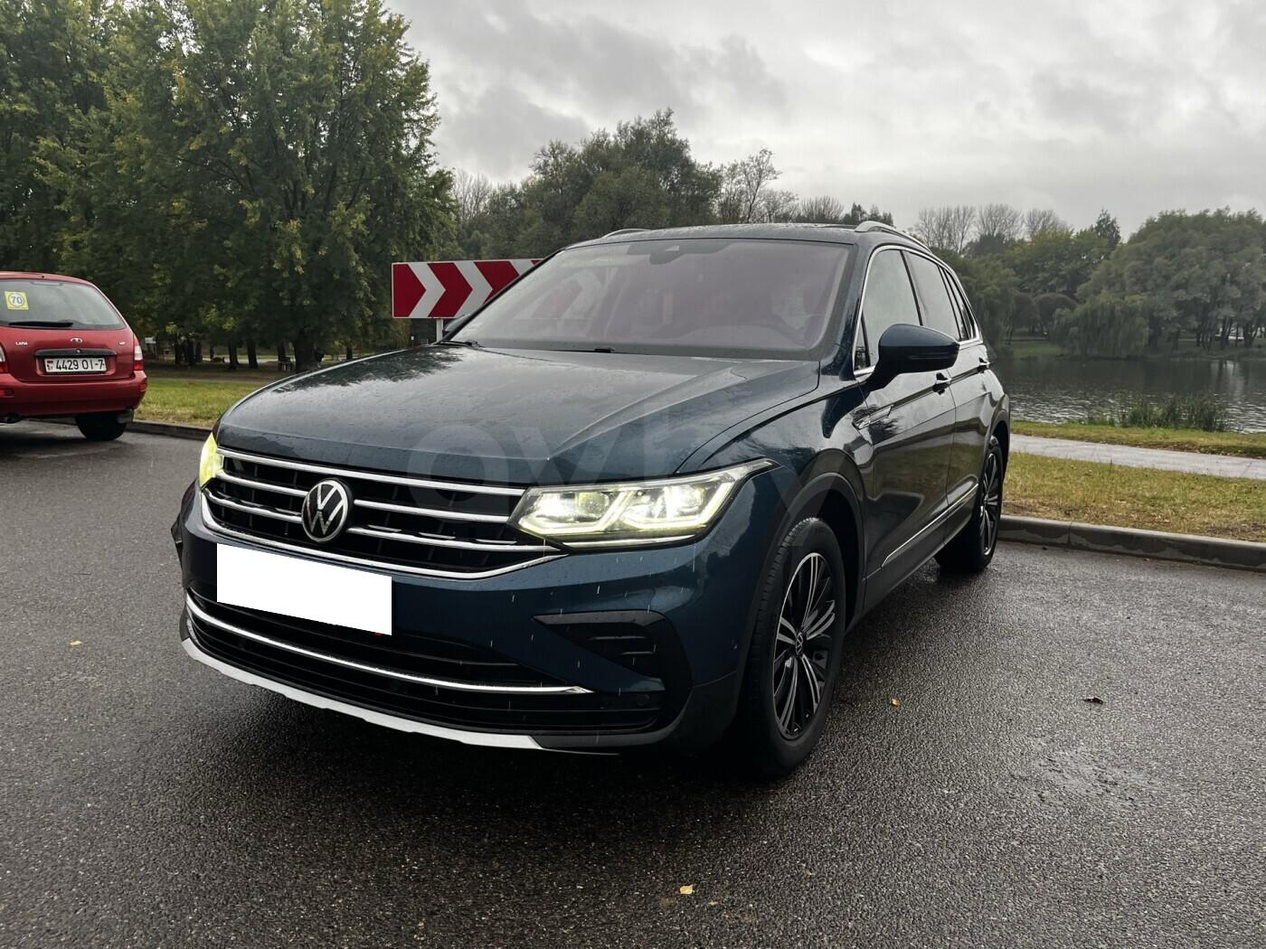Tiguan_2020-2024: (164, 219, 1014, 762)
